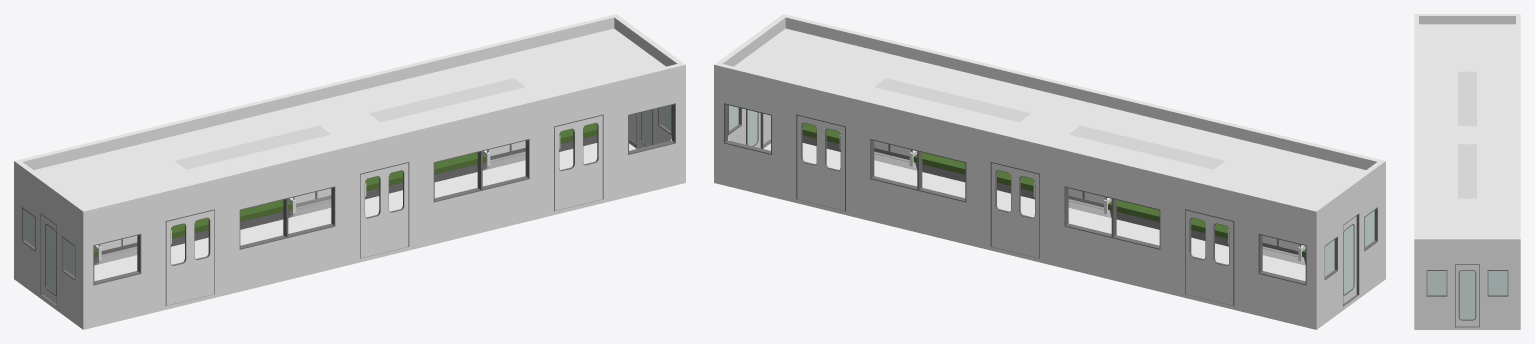
File: MainTrainViewModel.glb
The picture shows the model from 3 angles, left to right: view 1: azimuth 30°, elevation 25°; view 2: azimuth 150°, elevation 25°; view 3: azimuth 270°, elevation 25°; orthographic projection. The views are drawn at different scales.
Parts seen in each view (by area): view 1: color-body.001, color-ceilling.001, color-floor.001, frame.001, color-white.001, metal.001, fabric.001, glass.001; view 2: color-body.001, color-ceilling.001, color-floor.001, frame.001, color-white.001, metal.001, fabric.001, glass.001; view 3: color-ceilling.001, color-body.001, color-white.001, glass.001, frame.001, color-floor.001.
Boxes of the visible parts, box(x1,y1,x2,y2) form: color-body.001: box(14, 14, 685, 326); color-ceilling.001: box(34, 28, 665, 207); color-floor.001: box(14, 143, 685, 329); frame.001: box(22, 103, 675, 306); color-white.001: box(174, 78, 524, 169); metal.001: box(94, 135, 636, 305); fabric.001: box(94, 123, 597, 257); glass.001: box(25, 105, 670, 294); color-body.001: box(714, 14, 1385, 326); color-ceilling.001: box(734, 28, 1365, 207); color-floor.001: box(714, 143, 1385, 329); frame.001: box(724, 103, 1377, 306); color-white.001: box(875, 78, 1225, 169); metal.001: box(763, 135, 1305, 305); fabric.001: box(802, 123, 1305, 257); glass.001: box(729, 105, 1374, 294); color-ceilling.001: box(1419, 24, 1515, 237); color-body.001: box(1414, 14, 1520, 327); color-white.001: box(1458, 71, 1476, 198); glass.001: box(1427, 270, 1507, 319); frame.001: box(1426, 264, 1508, 327); color-floor.001: box(1414, 327, 1520, 329).
Size of the model in its own units: 17.06 by 3.2 by 3.4.
